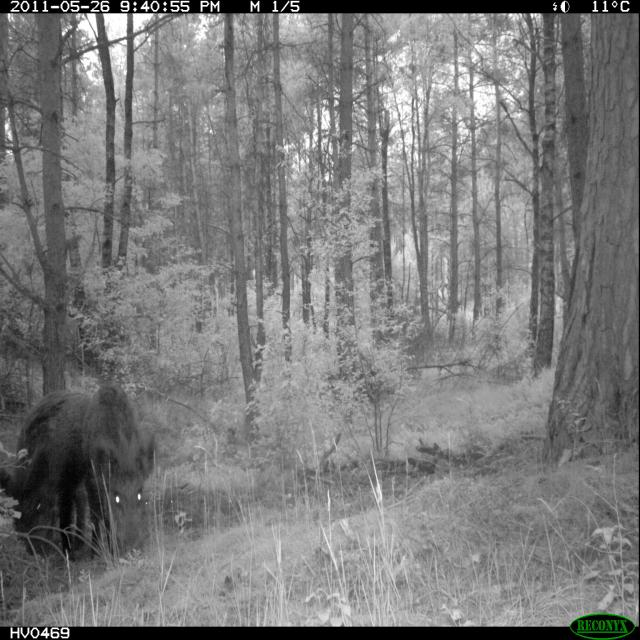boar: (0, 352, 169, 574)
